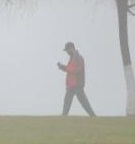person: (52, 40, 100, 119)
